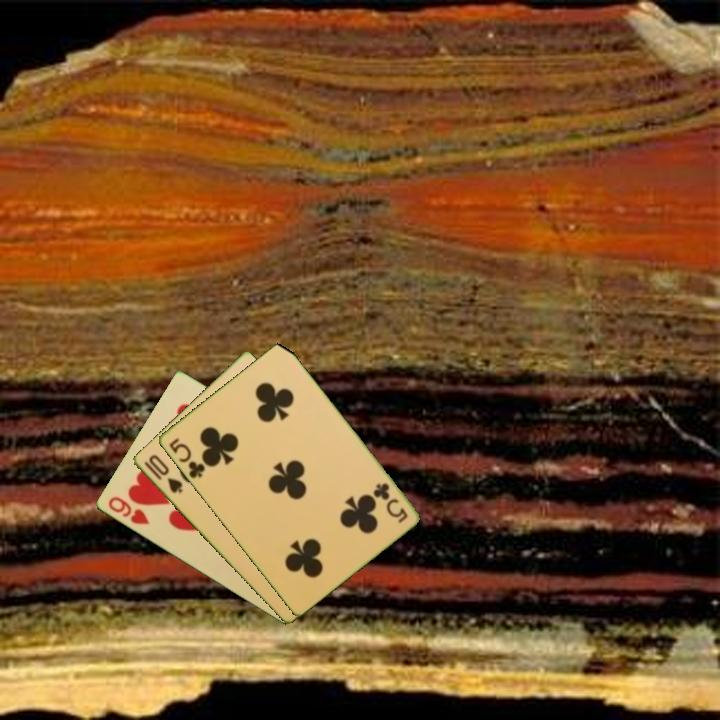10s: (140, 451, 185, 496)
5c: (165, 434, 208, 481), (369, 479, 411, 526)
9h: (104, 493, 152, 528)
